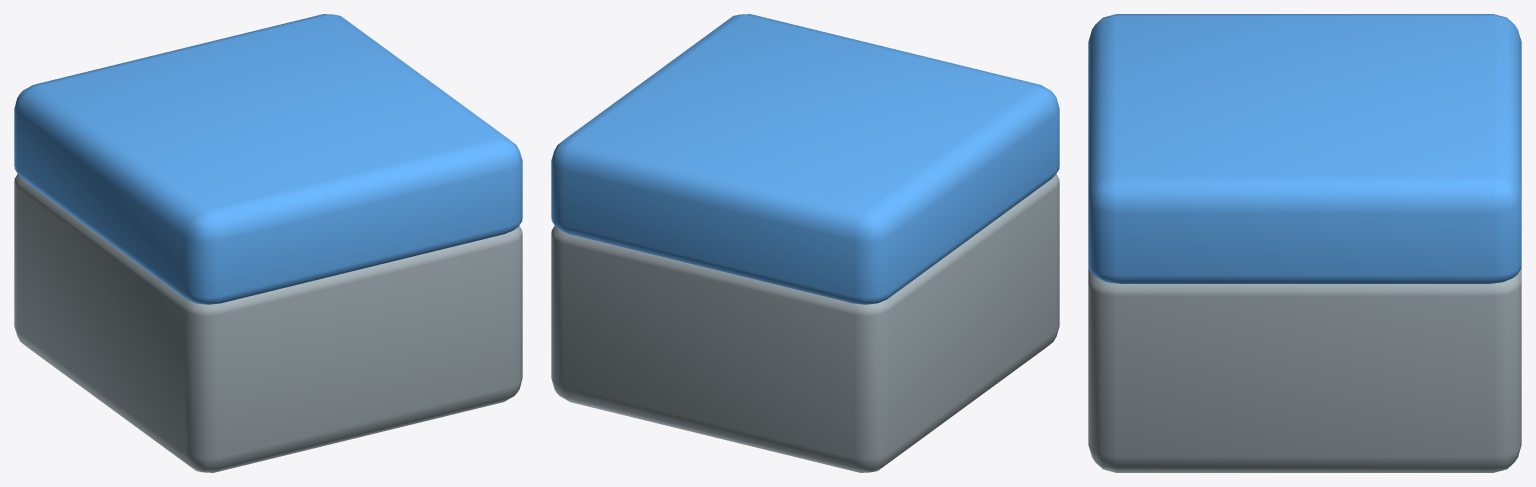
Rendered from tileMedium_teamBlue-col.glb.
3 renders of one model, left to right at view 1: azimuth 30°, elevation 25°; view 2: azimuth 150°, elevation 25°; view 3: azimuth 270°, elevation 25°, orthographic. The views are drawn at different scales.
Parts seen in each view (by area): view 1: tileMedium_teamBlue-col; view 2: tileMedium_teamBlue-col; view 3: tileMedium_teamBlue-col.
Part boxes in pixels (x1,y1,x2,y2): tileMedium_teamBlue-col: (14,14,522,472); tileMedium_teamBlue-col: (551,14,1059,472); tileMedium_teamBlue-col: (1088,14,1521,472).
Size of the model in its own units: 2 by 1.5 by 2.
